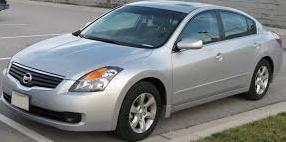Cars: (3, 3, 284, 141)
